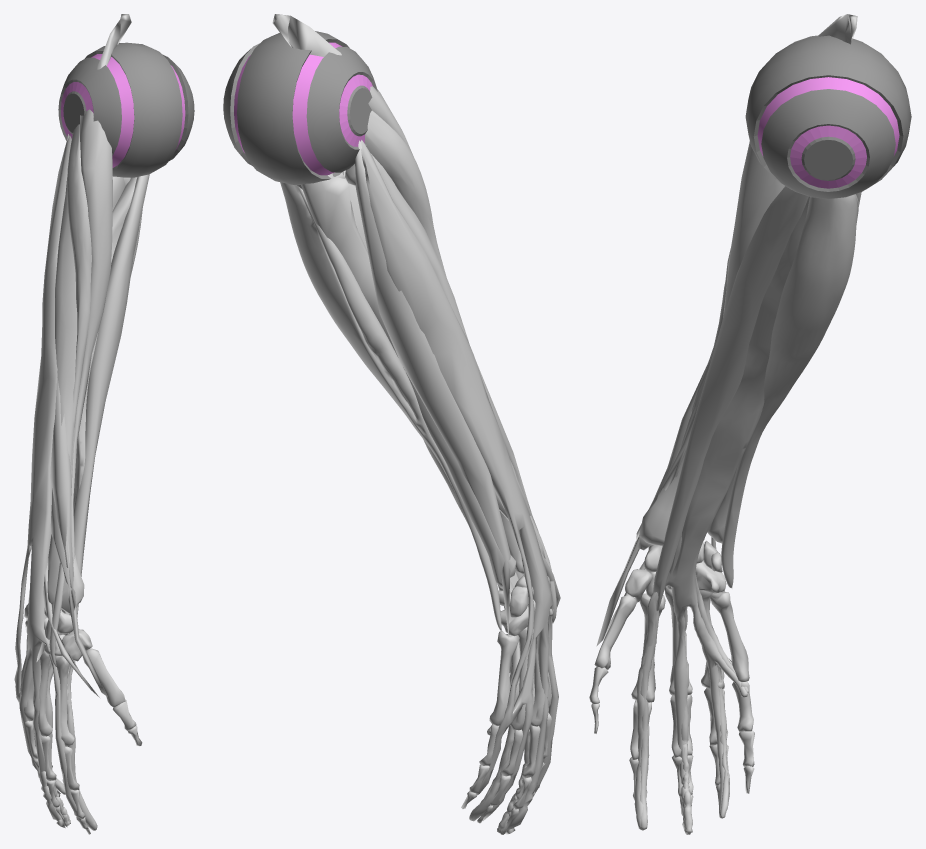
The model's file is SM_Avant_Bras_D.fbx.
3 renders of one model, left to right at view 1: azimuth 30°, elevation 25°; view 2: azimuth 150°, elevation 25°; view 3: azimuth 270°, elevation 25°, orthographic. The views are drawn at different scales.
Parts seen in each view (by area): view 1: SM_Avant_Bras_D; view 2: SM_Avant_Bras_D; view 3: SM_Avant_Bras_D.
Boxes of the visible parts, left/top/right/bottom form: SM_Avant_Bras_D: left=14, top=14, right=194, bottom=834; SM_Avant_Bras_D: left=223, top=14, right=560, bottom=834; SM_Avant_Bras_D: left=589, top=14, right=911, bottom=834.
Bounding box in the file's own units: 0.6694 × 2.22 × 0.7253.
